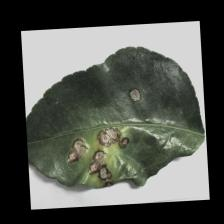canker: (56, 87, 154, 193)
